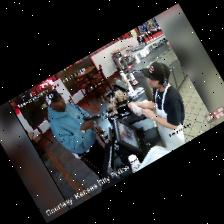person: (46, 90, 104, 179), (129, 62, 185, 150)
